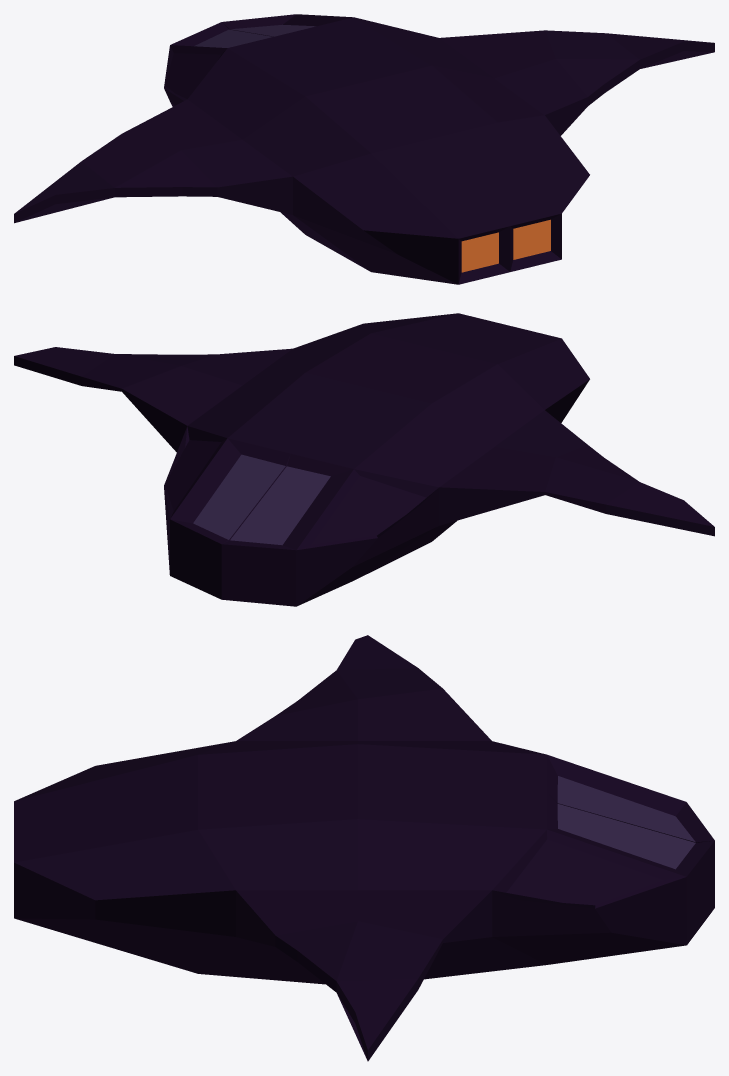
The model's file is Spacecraft.fbx.
3 views of the same model, one above another, from view 1: azimuth 30°, elevation 25°; view 2: azimuth 150°, elevation 25°; view 3: azimuth 270°, elevation 25° (orthographic). The views are drawn at different scales.
Parts seen in each view (by area): view 1: Cube; view 2: Cube; view 3: Cube.
Boxes of the visible parts, <box> form: Cube: <box>14,14,714,284</box>; Cube: <box>14,313,714,606</box>; Cube: <box>14,635,714,1061</box>.
Bounding box in the file's own units: 557 × 105 × 397.
